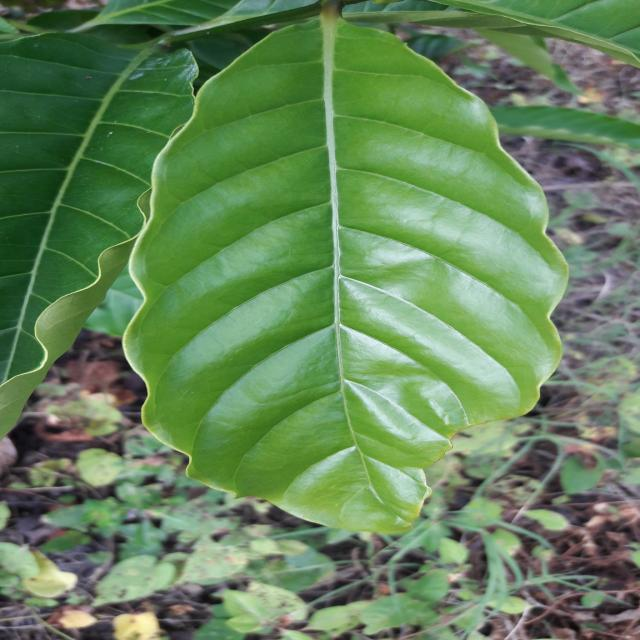Sanas: (119, 0, 571, 537)
